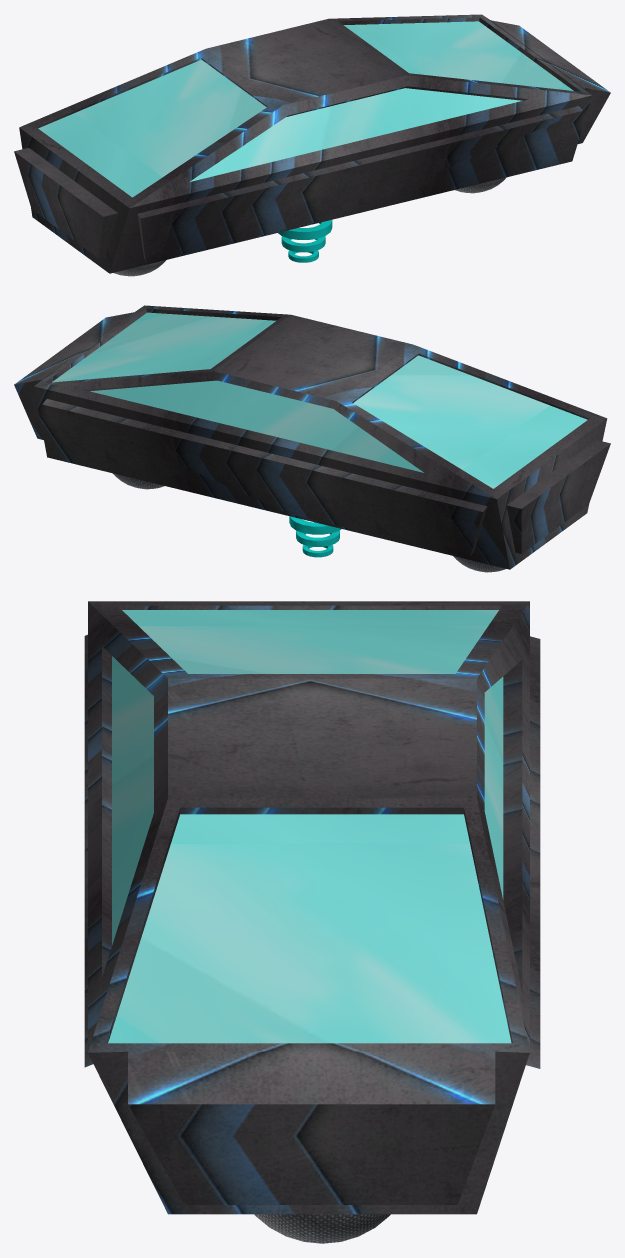
File: Cyber Car.fbx
3 views of the same model, one above another, from view 1: azimuth 30°, elevation 25°; view 2: azimuth 150°, elevation 25°; view 3: azimuth 270°, elevation 25° (orthographic). The views are drawn at different scales.
Visible parts, largest first — view 1: Box001, Tube001, Tube002, Sphere001; view 2: Box001, Tube001, Tube002, Sphere001; view 3: Box001, Sphere002.
Boxes of the visible parts, x1,y1,x2,y2 form: Box001: (14,14,610,273); Tube001: (278,220,332,239); Tube002: (281,236,325,252); Sphere001: (113,260,166,276); Box001: (14,305,610,569); Tube001: (289,516,341,534); Tube002: (296,522,339,546); Sphere001: (453,556,505,572); Box001: (84,601,540,1214); Sphere002: (254,1214,390,1243).
Bounding box in the file's own units: 210 × 76.59 × 82.04.
